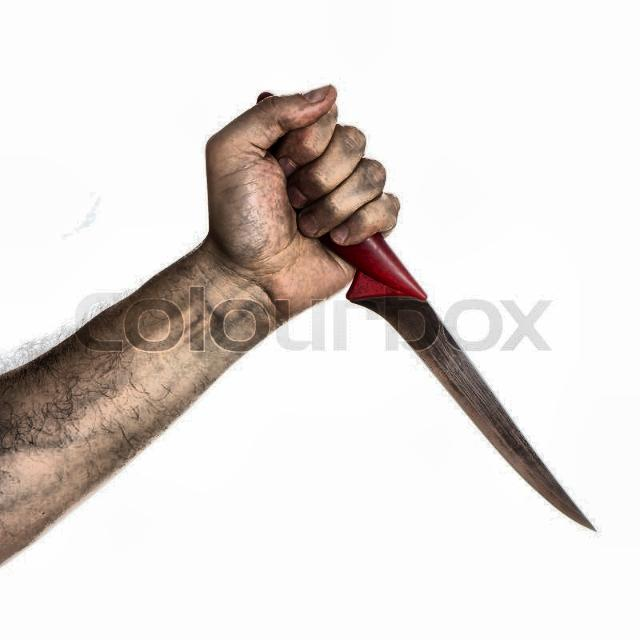knife: (274, 124, 602, 538)
